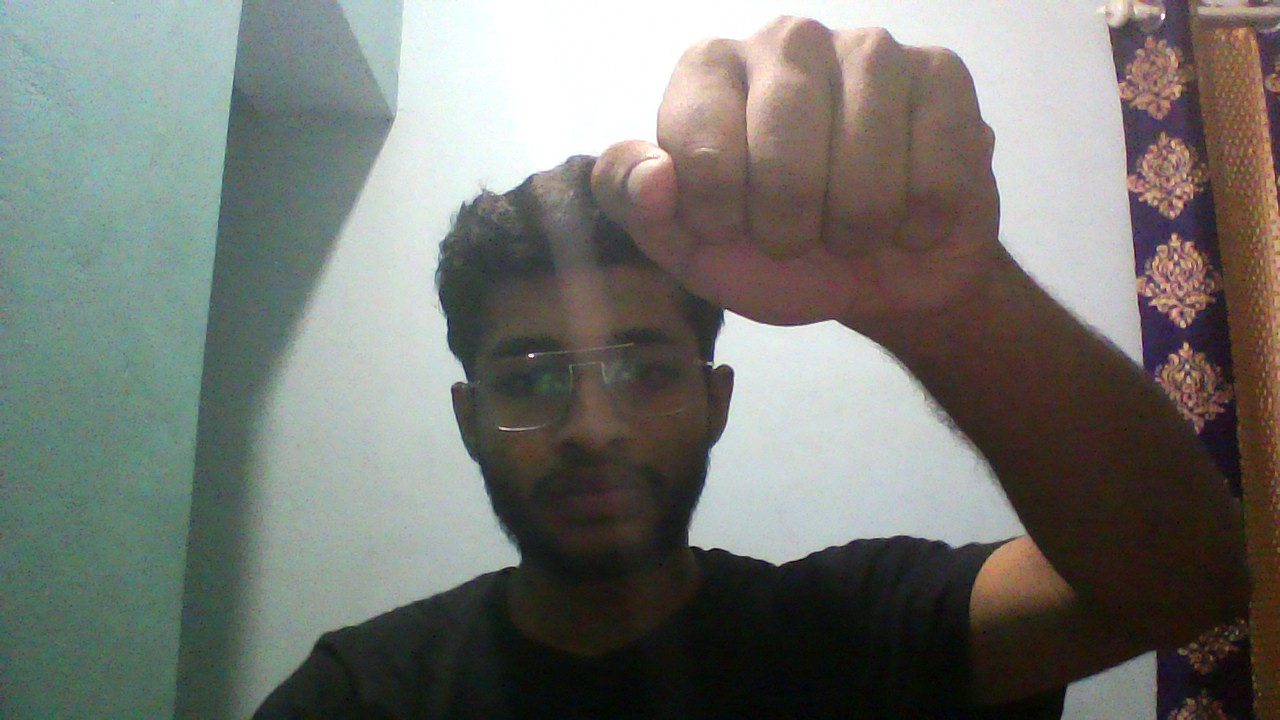Yes: (562, 14, 1046, 417)
